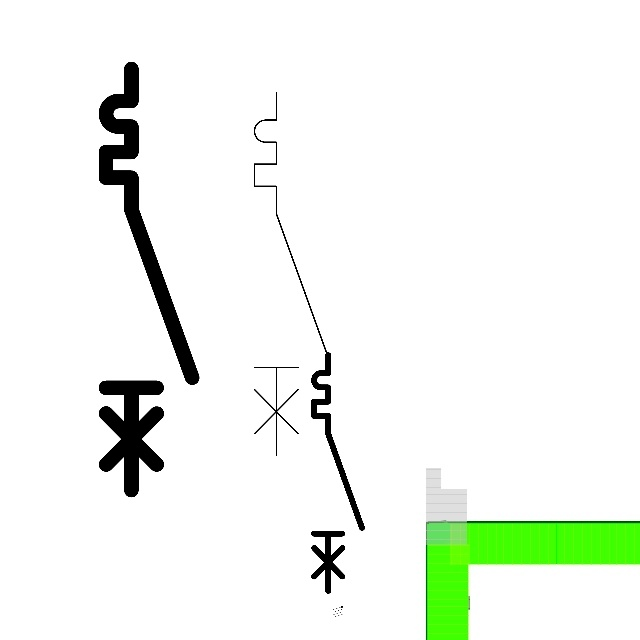interruptor_termomagnetico: (95, 58, 203, 501), (245, 83, 338, 465), (308, 349, 368, 597)
